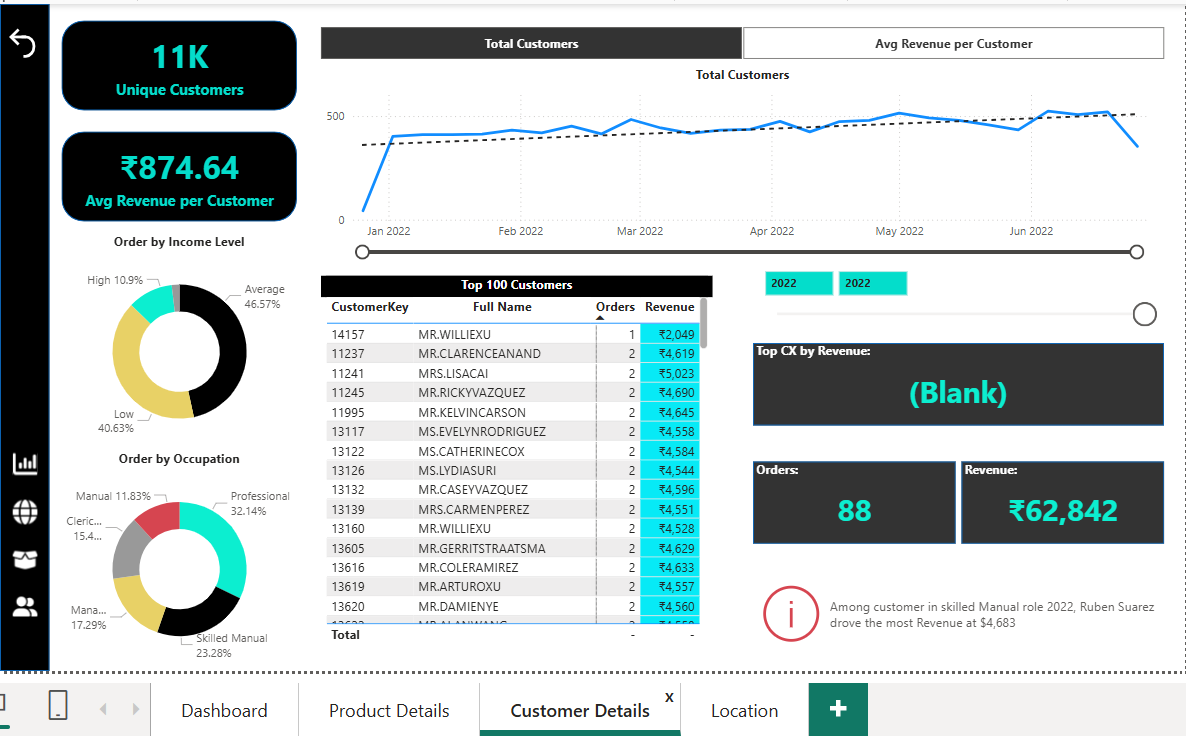

Layout of this report page (visuals, bound fields, positions):
{"tool":"powerbi","page":{"name":"Customer Details","canvas":[1280,720],"ordinal":2},"visuals":[{"type":"shape","box":[0,0,53.4,720],"z":0},{"type":"shape","box":[66.4,17.8,254.2,97.2],"z":0,"group":"g1"},{"type":"shape","box":[66.4,137.6,254.2,97.2],"z":0,"group":"g2"},{"type":"shape","box":[812.8,365.9,443.7,89.1],"z":0,"group":"g3"},{"type":"shape","box":[812.9,494.1,218.8,88.8],"z":0,"group":"g4"},{"type":"shape","box":[1038,494.1,218.8,88.8],"z":0,"group":"g5"},{"type":"group","id":"g1","title":"Unique CX's","box":[66.4,17.8,254.2,97.2],"z":1000},{"type":"card","fields":{"Values":["Measures (2).Total Customers"]},"box":[81,17.8,225.1,97.2],"z":1000,"group":"g1"},{"type":"card","fields":{"Values":["Measures (2).Avg Revenue per Customer"]},"box":[81,137.6,225.1,97.2],"z":1000,"group":"g2"},{"type":"card","title":"Top CX by Revenue:","fields":{"Values":["Measures (2).Full Name (CX details)"]},"box":[810.7,364.1,445.3,89.1],"z":1000,"group":"g3"},{"type":"actionButton","box":[9.7,471.2,34.8,51.5],"z":1000,"group":"g6"},{"type":"card","title":"Orders:","fields":{"Values":["Measures (2).Total Order (CX Details)"]},"box":[811.2,492.2,221.8,88.7],"z":1000,"group":"g4"},{"type":"card","title":"Revenue:","fields":{"Values":["Measures (2).Total Revenue (CX Details)"]},"box":[1036.3,492.2,221.8,88.7],"z":1000,"group":"g5"},{"type":"group","id":"g2","title":"Unique CX's","box":[66.4,137.6,254.2,97.2],"z":2000},{"type":"actionButton","box":[9.7,522.7,34.8,51.5],"z":2000,"group":"g6"},{"type":"donutChart","title":"Order by Income Level","fields":{"Y":["Measures (2).Total Order"],"Category":["Customers Details.Income Level"]},"box":[66.4,246.1,254.2,239.6],"z":3000},{"type":"actionButton","box":[9.7,574.2,34.8,51.5],"z":3000,"group":"g6"},{"type":"donutChart","title":"Order by Occupation","fields":{"Y":["Measures (2).Total Order"],"Category":["Customers Details.Occupation"]},"box":[66.4,480.9,254.2,239.6],"z":4000},{"type":"actionButton","box":[9.7,625.7,34.8,51.5],"z":4000,"group":"g6"},{"type":"slicer","title":"Revenue per Customer","fields":{"Values":["CX Metric.CX Metric Parameter"]},"box":[320.6,17.8,960.2,48.6],"z":5000},{"type":"lineChart","fields":{"Y":["Measures (2).Total Customers"],"Category":["Calendar.Year","Calendar.Start of Week","Calendar.Start of Month"]},"box":[346.5,66.4,910,212.1],"z":6000},{"type":"slicer","fields":{"Values":["Calendar.Year"]},"box":[812.9,278.5,443.7,87.4],"z":7000},{"type":"group","id":"g3","title":"Top CX by Revenue","box":[810.7,364.1,445.8,90.9],"z":8000},{"type":"group","id":"g4","title":"Top CX by Revenue","box":[811.2,492.2,220.2,90.7],"z":9000},{"type":"group","id":"g5","title":"Top CX by Revenue","box":[1036.3,492.2,221.8,90.7],"z":10000},{"type":"actionButton","box":[816.1,620.2,443.7,76.1],"z":11000},{"type":"tableEx","title":"Top 100 Customers","fields":{"Values":["Customers Details.CustomerKey","Customers Details.Full Name","Measures (2).Total Order (CX Details)","Measures (2).Total Revenue (CX Details)"]},"box":[346.5,293.1,422.6,401.6],"z":12000},{"type":"group","id":"g6","title":"Navigation","box":[9.7,471.2,34,207.3],"z":13000},{"type":"actionButton","box":[3.2,21,100.4,42.1],"z":14000}]}

Visuals, with their boxes on the page's 1280x720 design canvas (x1, y1, x2, y2). These are canvas units, not pixel positions in the 1186x736 screenshot, which may show the page scaled, cropped or inside an application window:
shape: locate(0, 0, 53, 720)
shape: locate(66, 18, 321, 115)
shape: locate(66, 138, 321, 235)
shape: locate(813, 366, 1256, 455)
shape: locate(813, 494, 1032, 583)
shape: locate(1038, 494, 1257, 583)
"Unique CX's" group: locate(66, 18, 321, 115)
card - Measures (2).Total Customers: locate(81, 18, 306, 115)
card - Measures (2).Avg Revenue per Customer: locate(81, 138, 306, 235)
"Top CX by Revenue:" card: locate(811, 364, 1256, 453)
actionButton: locate(10, 471, 44, 523)
"Orders:" card: locate(811, 492, 1033, 581)
"Revenue:" card: locate(1036, 492, 1258, 581)
"Unique CX's" group: locate(66, 138, 321, 235)
actionButton: locate(10, 523, 44, 574)
"Order by Income Level" donutChart: locate(66, 246, 321, 486)
actionButton: locate(10, 574, 44, 626)
"Order by Occupation" donutChart: locate(66, 481, 321, 720)
actionButton: locate(10, 626, 44, 677)
"Revenue per Customer" slicer: locate(321, 18, 1281, 66)
lineChart - Measures (2).Total Customers x Calendar.Year: locate(346, 66, 1256, 278)
slicer - Calendar.Year: locate(813, 278, 1257, 366)
"Top CX by Revenue" group: locate(811, 364, 1256, 455)
"Top CX by Revenue" group: locate(811, 492, 1031, 583)
"Top CX by Revenue" group: locate(1036, 492, 1258, 583)
actionButton: locate(816, 620, 1260, 696)
"Top 100 Customers" tableEx: locate(346, 293, 769, 695)
"Navigation" group: locate(10, 471, 44, 678)
actionButton: locate(3, 21, 104, 63)
